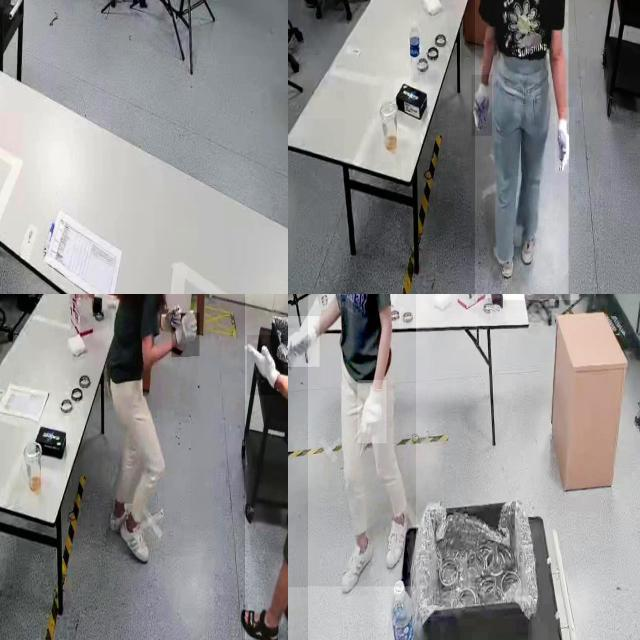hand_glove: (247, 335, 283, 395), (357, 380, 387, 444), (288, 316, 319, 366), (555, 108, 575, 174), (472, 75, 492, 137), (172, 313, 200, 357)
person: (288, 294, 416, 587), (475, 0, 569, 294), (102, 294, 191, 551), (245, 294, 288, 640)
shoes: (334, 532, 375, 598), (382, 508, 411, 574), (119, 508, 151, 562), (498, 237, 518, 280), (518, 233, 540, 267)
